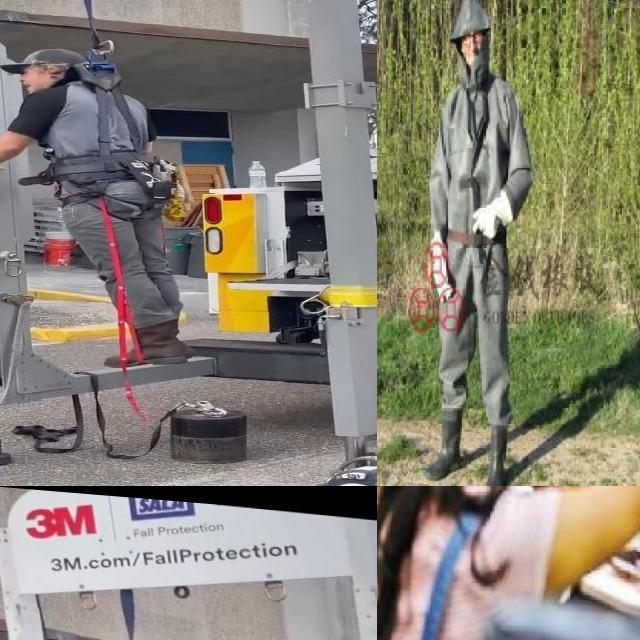Harness: (74, 0, 143, 154)
boots: (418, 406, 467, 486), (480, 423, 515, 486)
face_nomask: (457, 30, 488, 69)
hand_glove: (471, 207, 505, 241), (431, 255, 453, 304)
person: (415, 0, 549, 486), (398, 486, 640, 640)
